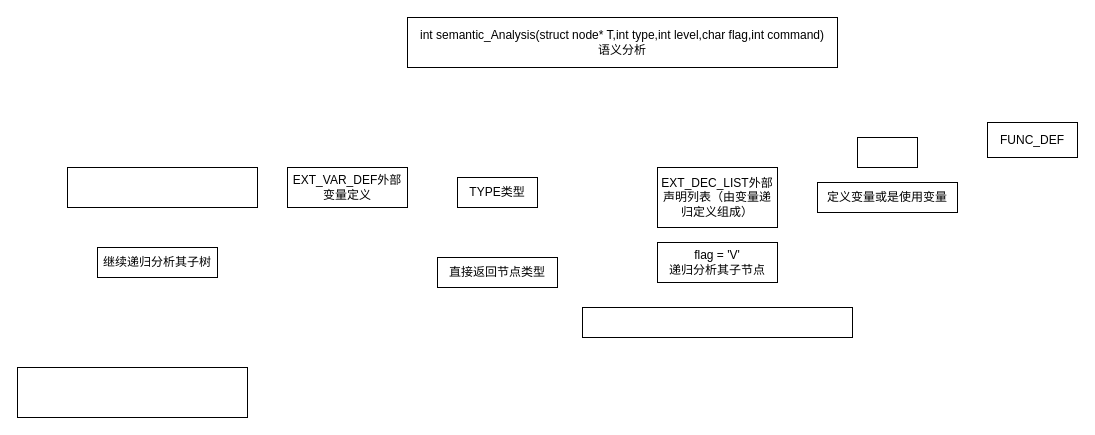
The diagram is 1095 pixels wide and 435 high, and some of its shapes have lost their labels. The shapes that lost their labels are listed below. From the top down, each one's centre as x and y in pixels, then its label:
[887,152]: ID
[162,187]: EXT_DEF_LIST外部定义列表
[717,322]: ExtDecList → VarDec | VarDec , ExtDecList
[132,392]: 文法描述： EXT_DEF_LIST → ExtDefList ExtDef| ε
